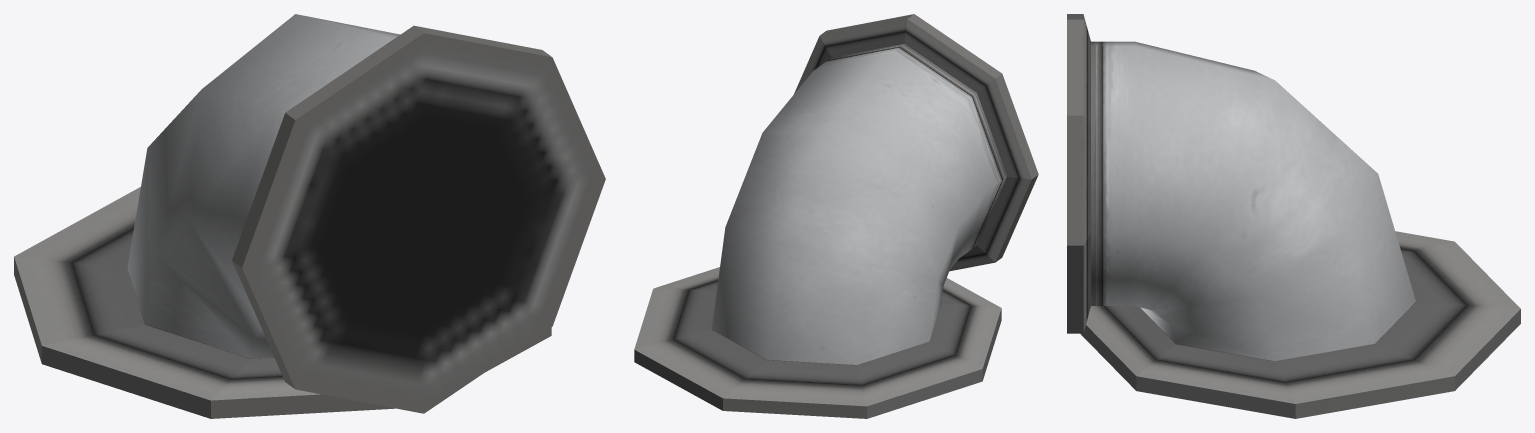
Rendered from pipe_JI.glb.
The picture shows the model from 3 angles, left to right: view 1: azimuth 30°, elevation 25°; view 2: azimuth 150°, elevation 25°; view 3: azimuth 270°, elevation 25°; orthographic projection. The views are drawn at different scales.
Visible parts, largest first — view 1: zhuti.II.002; view 2: zhuti.II.002; view 3: zhuti.II.002.
Boxes of the visible parts, box(x1,y1,x2,y2) form: zhuti.II.002: box(14, 14, 605, 418); zhuti.II.002: box(634, 14, 1038, 418); zhuti.II.002: box(1067, 14, 1520, 418).
Size of the model in its own units: 10.82 by 8.17 by 10.9.
1 material, 1 textured.
